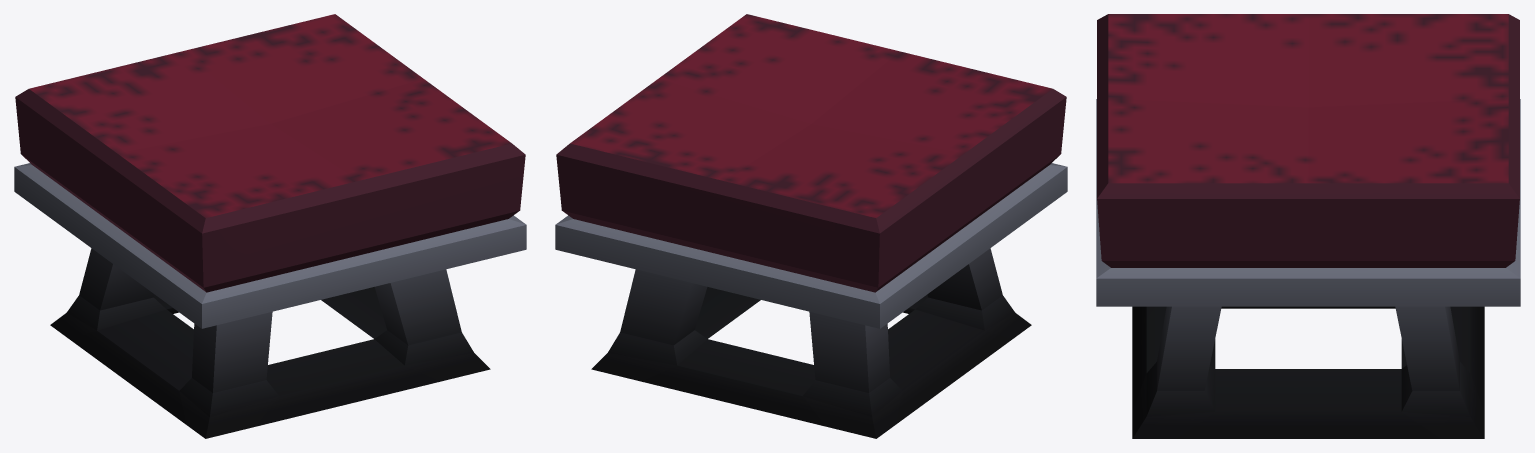
File: LowChair.fbx
3 views of the same model, side by side, from view 1: azimuth 30°, elevation 25°; view 2: azimuth 150°, elevation 25°; view 3: azimuth 270°, elevation 25° (orthographic). The views are drawn at different scales.
Visible parts, largest first — view 1: Куб.075; view 2: Куб.075; view 3: Куб.075.
Part boxes in pixels (x1,y1,x2,y2): Куб.075: (14, 14, 526, 438); Куб.075: (555, 14, 1067, 438); Куб.075: (1096, 14, 1520, 438).
Bounding box in the file's own units: 91.09 × 61.94 × 91.09.
